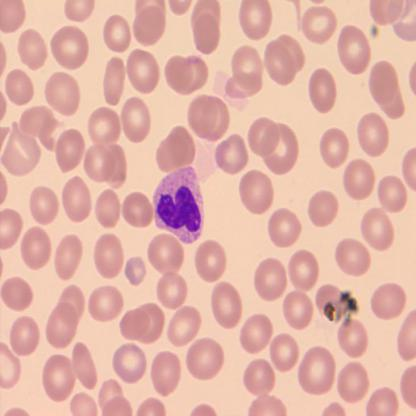Segmented neutrophil: (153, 167, 206, 245)
